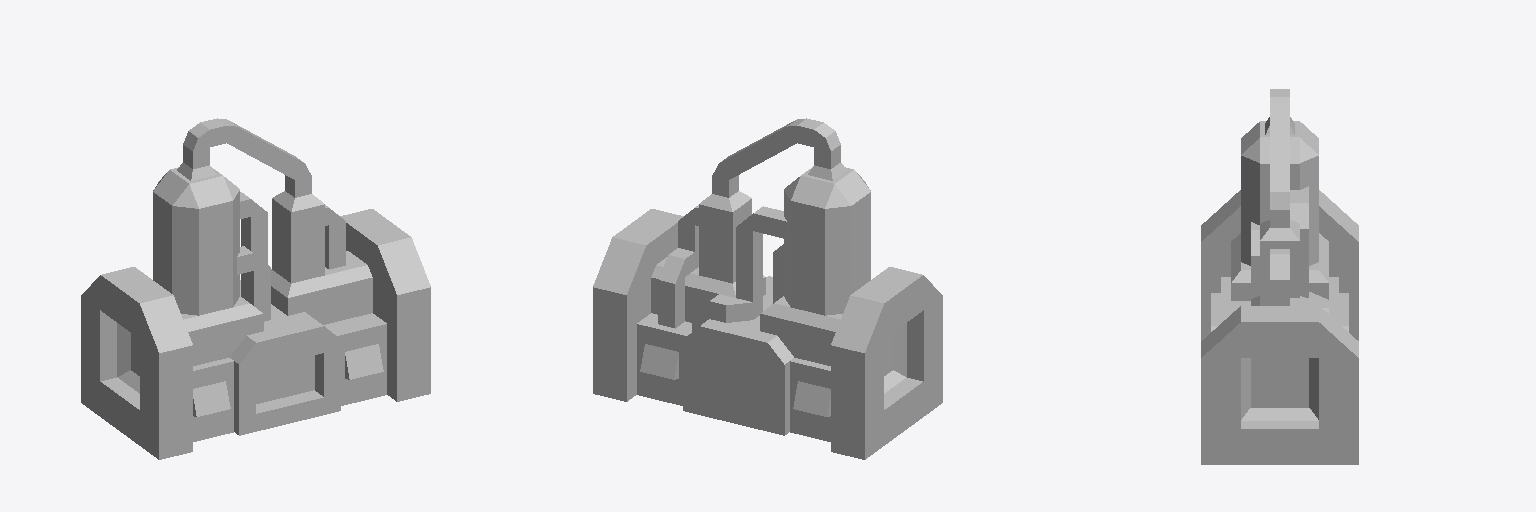
Rendered from distillery_body.obj.
3 renders of one model, left to right at view 1: azimuth 30°, elevation 25°; view 2: azimuth 150°, elevation 25°; view 3: azimuth 270°, elevation 25°, orthographic.
Visible parts, largest first — view 1: DISTILLERY_BODY_Cube.012; view 2: DISTILLERY_BODY_Cube.012; view 3: DISTILLERY_BODY_Cube.012.
Boxes of the visible parts, <box> form: DISTILLERY_BODY_Cube.012: <box>81,118,430,459</box>; DISTILLERY_BODY_Cube.012: <box>593,118,942,459</box>; DISTILLERY_BODY_Cube.012: <box>1201,89,1358,464</box>.
Bounding box in the file's own units: 2 × 2 × 1.